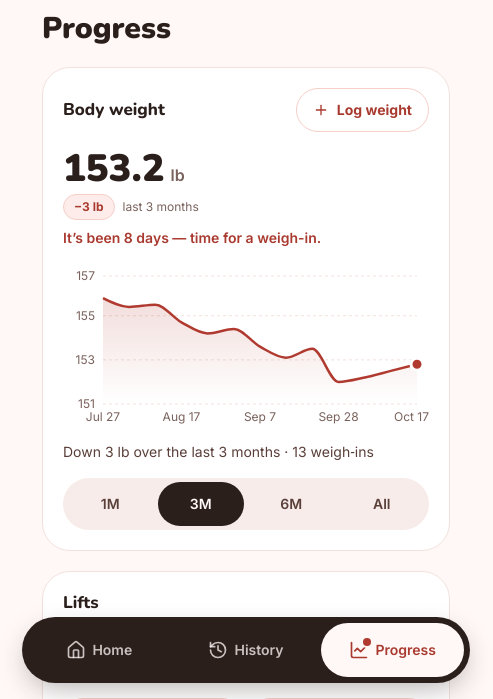
Test case: Body weight › shows the latest weight and a neutral delta over the selected timeframe
The width and height of the screenshot is (493, 699).
expect the heading "Body weight" is shown: met, box [63,99,165,121]
expect the text "−3 lb" is shown: met, box [63,194,114,220]
Click the button "1M": (110, 504) [67,482,154,526]
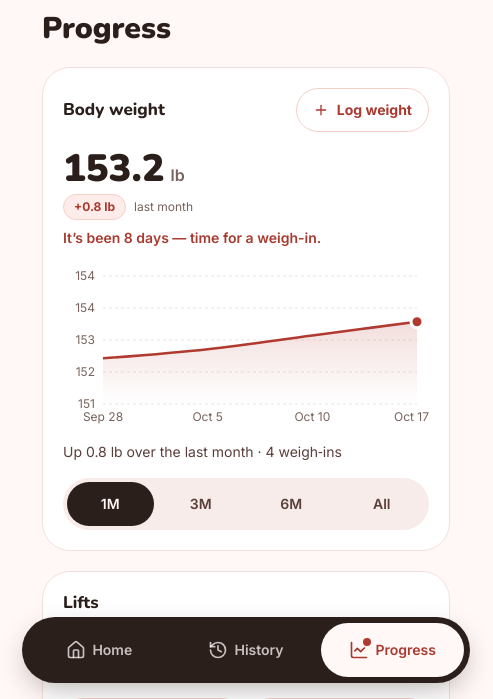
expect the text "It’s been 8 days — time for a weigh-in." is shown: met, box [63,229,321,246]
expect the text "+0.8 lb" is shown: met, box [63,194,126,220]
expect the text "Up 0.8 lb over the last month · 4 weigh‑ins" is shown: met, box [63,443,342,460]
